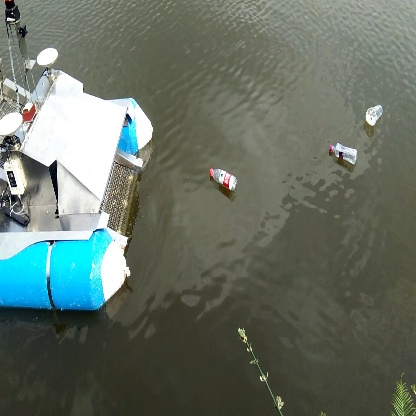bottle: (205, 163, 241, 198), (327, 139, 360, 171)
